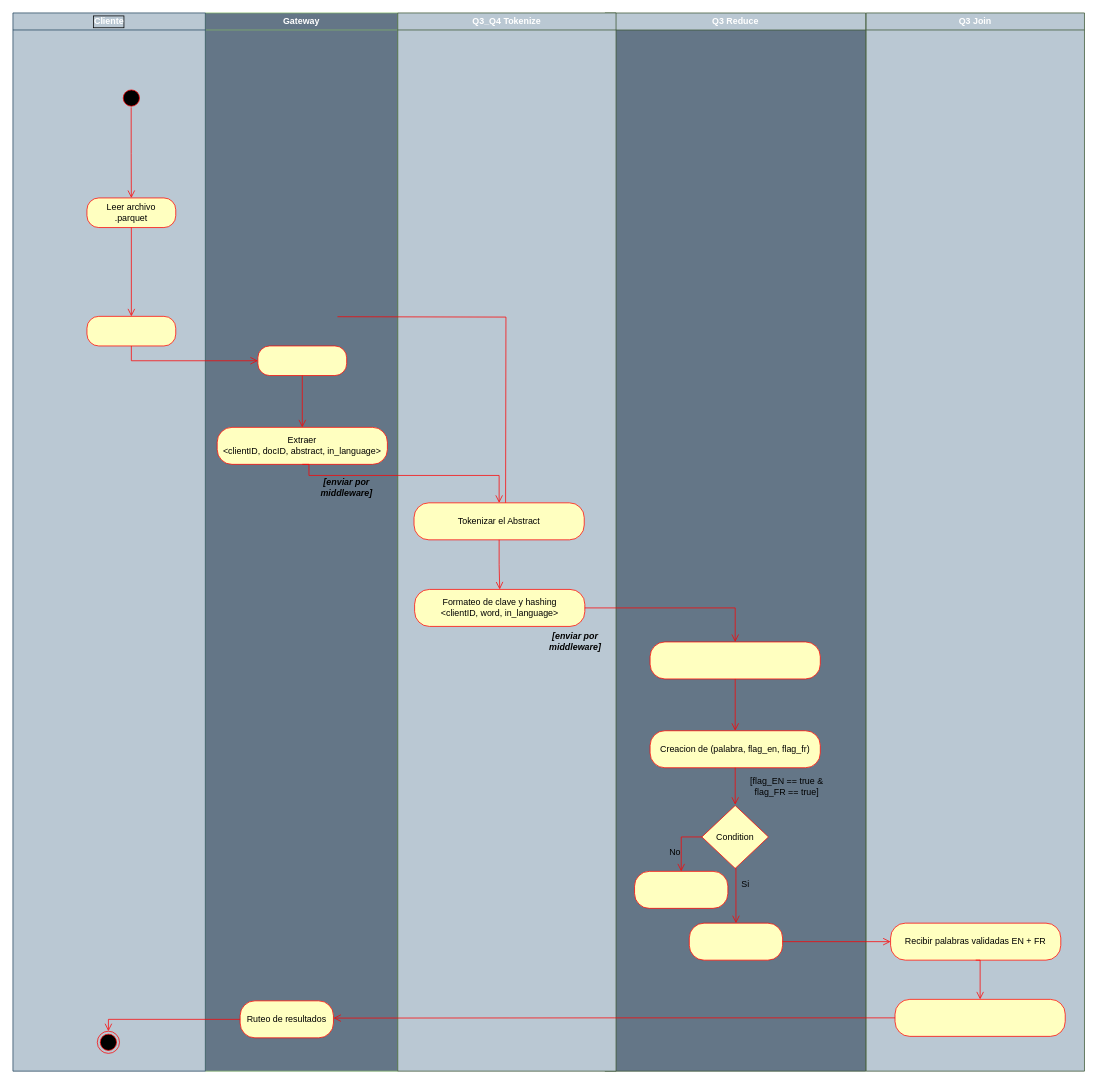
Some shapes in this 1097 by 1085 pixel diagram are drawn without their labels. The shapes that lost their labels are listed below. From the top down, each one's centre as x and y in pixels, then its label:
At (x=131, y=331): "Partir en batches".
At (x=302, y=360): "Recibir batch Cliente".
At (x=734, y=660): "Recibir tuplas".
At (x=681, y=889): "Descartar".
At (x=736, y=941): "Enviar a nodo Join".
At (x=979, y=1017): "Acumular unicos".
